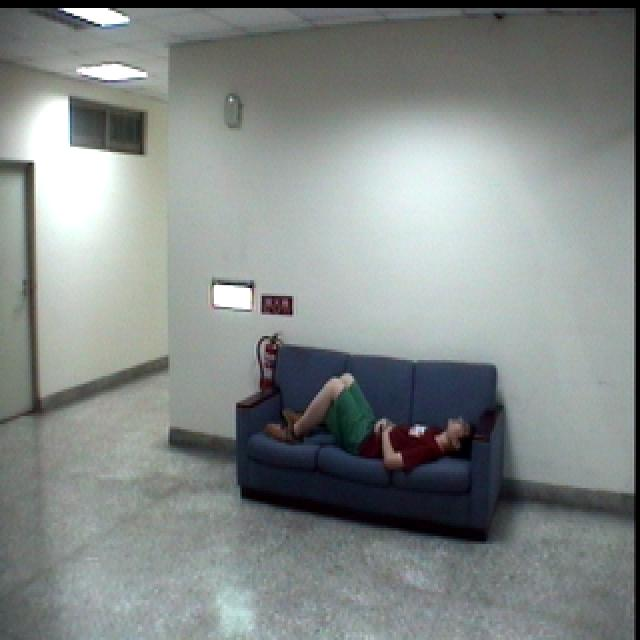lie: (261, 369, 476, 464)
